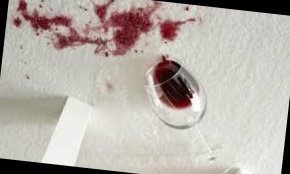wine: (92, 0, 187, 69), (11, 0, 91, 57)
